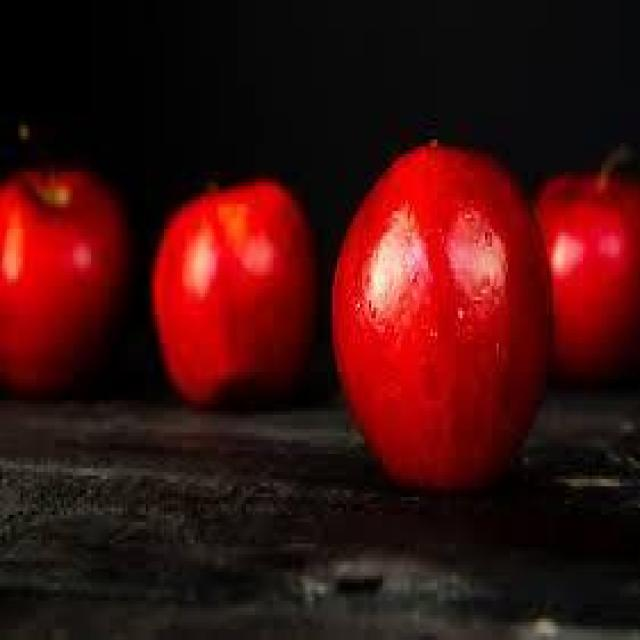maca: (330, 136, 551, 490), (150, 175, 317, 404), (0, 158, 128, 394), (533, 146, 638, 382)
